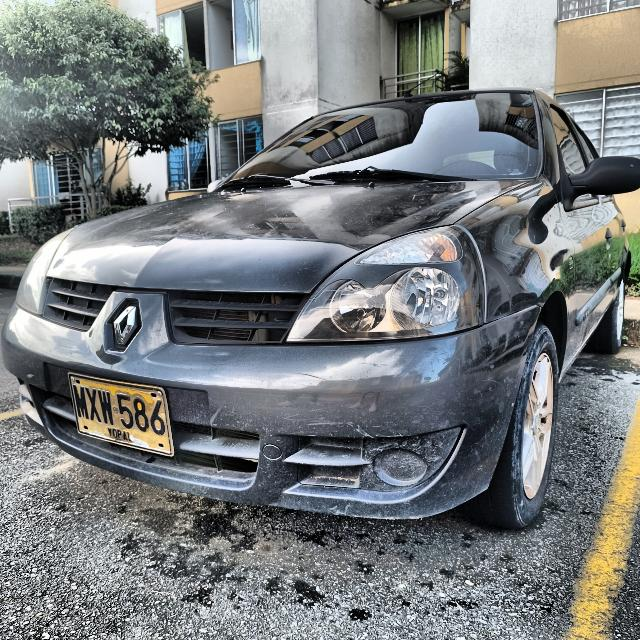plate: (69, 374, 172, 454)
